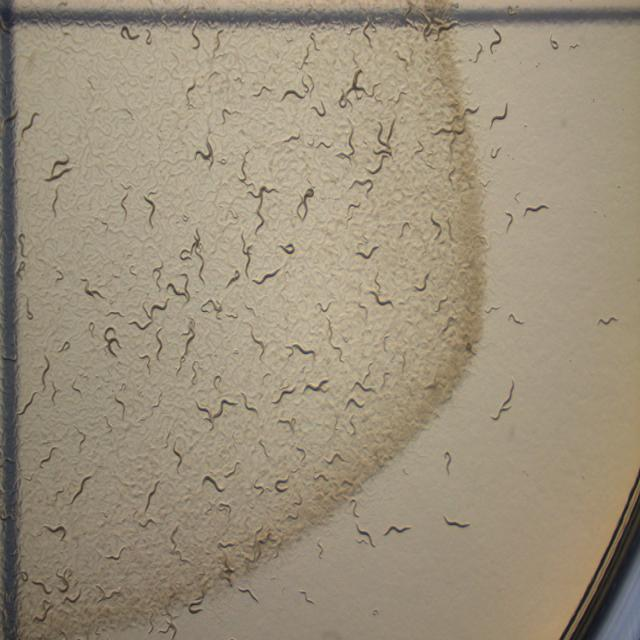filarid: (196, 397, 239, 429), (249, 187, 276, 226), (490, 379, 515, 421), (44, 157, 71, 182), (70, 475, 91, 503), (232, 392, 259, 413), (251, 267, 282, 284), (251, 325, 266, 360), (285, 344, 316, 360), (81, 279, 105, 299), (356, 523, 375, 547), (145, 480, 159, 511), (203, 472, 224, 492), (120, 184, 131, 221), (242, 234, 251, 278), (21, 113, 38, 136), (44, 168, 71, 182), (144, 195, 155, 228), (382, 524, 411, 536), (491, 103, 508, 122), (226, 269, 241, 288), (490, 28, 501, 53), (356, 247, 378, 259), (444, 518, 470, 528), (524, 204, 550, 214), (51, 189, 59, 216), (121, 27, 139, 39), (172, 444, 181, 468), (279, 244, 295, 255), (444, 450, 451, 475), (509, 312, 522, 324), (351, 499, 359, 518), (485, 305, 500, 314), (212, 374, 221, 389), (551, 35, 559, 50), (599, 317, 616, 324), (505, 212, 512, 228), (225, 467, 236, 477), (282, 387, 296, 394), (512, 192, 520, 203), (146, 30, 151, 43), (290, 417, 295, 430), (318, 542, 322, 558), (272, 397, 279, 404), (495, 147, 500, 156), (232, 349, 239, 355), (470, 108, 477, 113)
